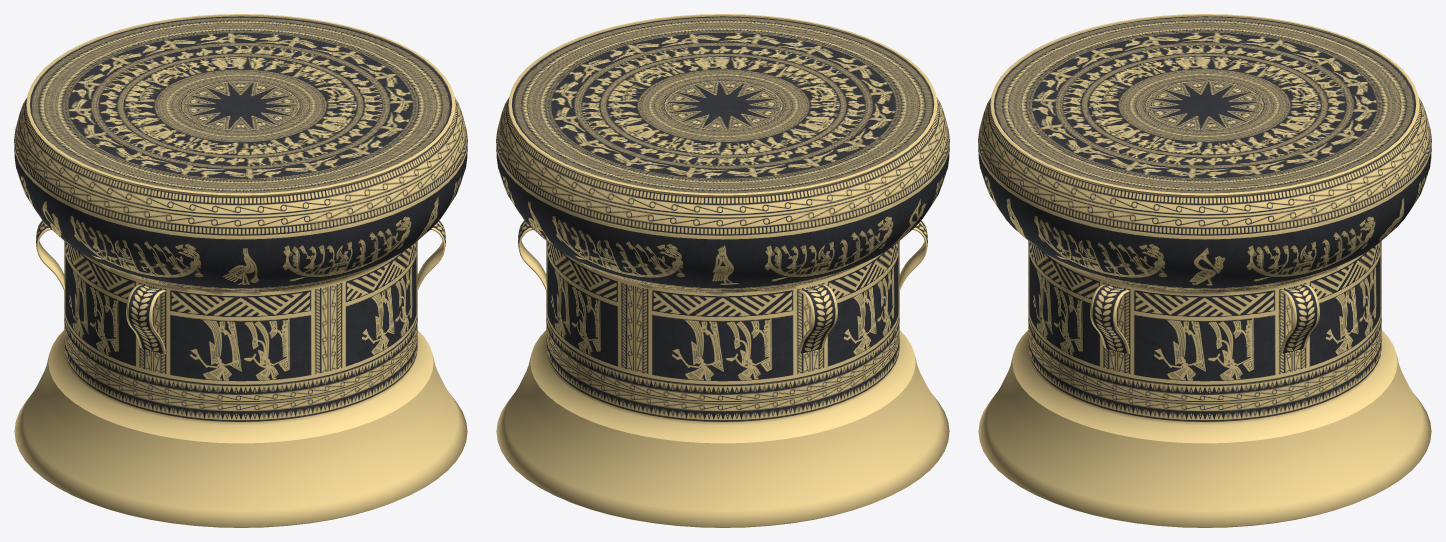
Rendered from trong_ong_ong_son_-_viet_nam.glb.
3 views of the same model, side by side, from view 1: azimuth 30°, elevation 25°; view 2: azimuth 150°, elevation 25°; view 3: azimuth 270°, elevation 25° (orthographic).
Visible parts, largest first — view 1: Circle.007, Circle.005, Circle.021, Circle.036, Circle.030, Circle.025; view 2: Circle.007, Circle.005, Circle.025, Circle.036, Circle.031, Circle.030, Circle.022, Circle.021, Circle.028; view 3: Circle.007, Circle.005, Circle.021, Circle.025, Circle.031, Circle.023, Circle.024, Circle.030, Circle.036.
Boxes of the visible parts, x1=… form: Circle.007: x1=14, y1=14, x2=467, y2=527; Circle.005: x1=30, y1=16, x2=451, y2=193; Circle.021: x1=27, y1=146, x2=467, y2=279; Circle.036: x1=14, y1=141, x2=351, y2=234; Circle.030: x1=81, y1=253, x2=293, y2=296; Circle.025: x1=88, y1=251, x2=408, y2=330; Circle.007: x1=496, y1=14, x2=949, y2=527; Circle.005: x1=512, y1=16, x2=933, y2=193; Circle.025: x1=550, y1=249, x2=881, y2=379; Circle.036: x1=496, y1=141, x2=949, y2=239; Circle.031: x1=546, y1=308, x2=884, y2=384; Circle.030: x1=563, y1=253, x2=882, y2=296; Circle.022: x1=699, y1=242, x2=746, y2=287; Circle.021: x1=496, y1=146, x2=901, y2=281; Circle.028: x1=581, y1=262, x2=864, y2=292; Circle.007: x1=978, y1=14, x2=1431, y2=527; Circle.005: x1=994, y1=16, x2=1415, y2=193; Circle.021: x1=1022, y1=174, x2=1420, y2=286; Circle.025: x1=1041, y1=242, x2=1380, y2=380; Circle.031: x1=1030, y1=308, x2=1381, y2=383; Circle.023: x1=1181, y1=239, x2=1228, y2=287; Circle.024: x1=1375, y1=192, x2=1410, y2=242; Circle.030: x1=1101, y1=253, x2=1364, y2=295; Circle.036: x1=983, y1=141, x2=1431, y2=233.
Size of the model in its own units: 13.72 by 11 by 13.72.
Materials: 1 (1 with a texture image).
